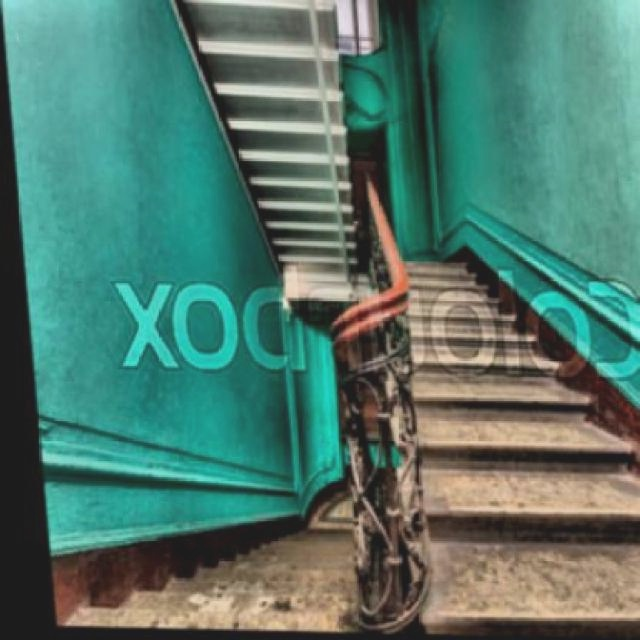stair: (360, 240, 640, 638)
